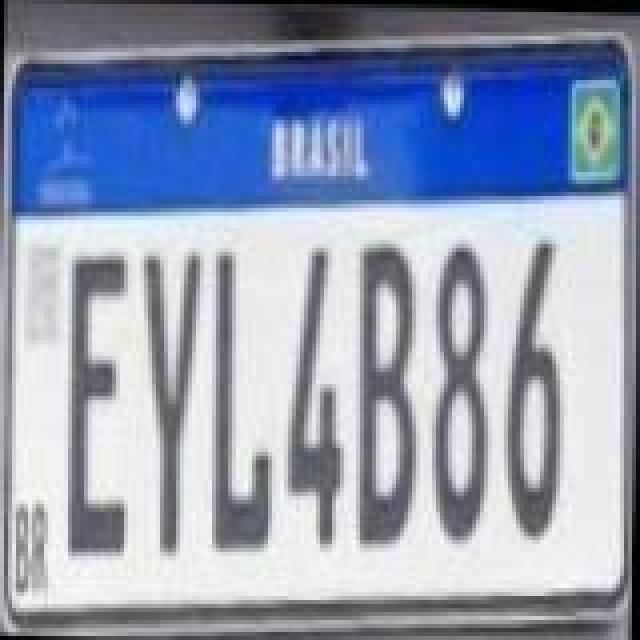4: (286, 244, 346, 548)
6: (502, 234, 562, 538)
8: (428, 240, 492, 544)
B: (354, 244, 422, 552)
E: (66, 250, 134, 562)
L: (210, 248, 278, 552)
Y: (140, 252, 204, 556)
